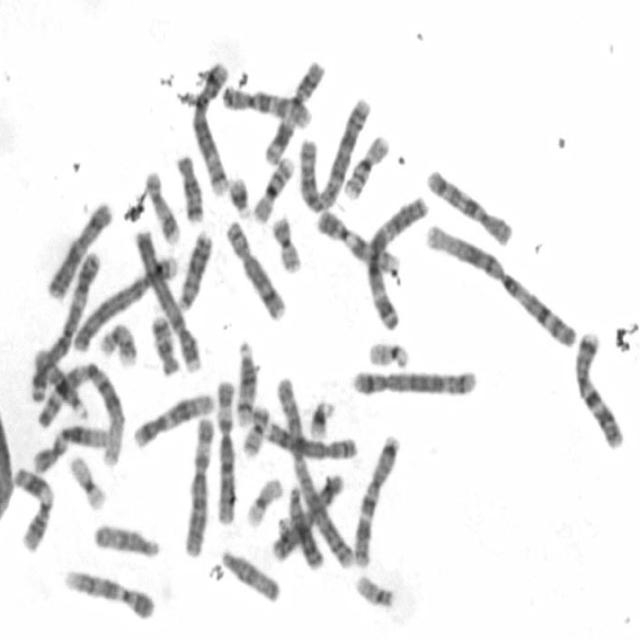A1: (422, 220, 579, 350), (32, 354, 126, 472)
A2: (272, 373, 356, 570), (296, 94, 372, 214)
A3: (27, 247, 102, 401), (362, 191, 431, 333)
B4: (70, 250, 180, 354), (132, 224, 203, 374)
B5: (189, 57, 232, 198), (348, 364, 479, 399)
C10: (423, 165, 514, 248), (218, 82, 314, 130)
C11: (262, 56, 326, 166), (10, 464, 55, 554)
C12: (130, 388, 216, 450), (30, 419, 111, 475)
C6: (180, 413, 216, 559), (215, 378, 237, 528)
C7: (351, 431, 402, 568), (570, 328, 626, 450)
C8: (222, 216, 287, 323), (262, 417, 358, 461)
C9: (313, 206, 401, 277), (61, 565, 158, 623)
D13: (173, 227, 214, 312), (288, 484, 326, 571)
D14: (33, 343, 92, 420), (233, 337, 257, 431)
D15: (218, 545, 282, 605), (90, 520, 162, 560)
E16: (340, 131, 391, 202), (249, 152, 297, 226)
E17: (143, 166, 181, 246), (96, 319, 138, 370)
E18: (173, 148, 205, 224), (147, 310, 181, 377)
F19: (66, 452, 107, 512), (243, 474, 285, 529)
F20: (267, 211, 303, 275), (238, 402, 272, 458)
G21: (306, 395, 337, 440), (224, 172, 252, 219)
G22: (354, 571, 396, 610), (365, 337, 411, 371)
X: (43, 198, 113, 302), (269, 472, 344, 565)
